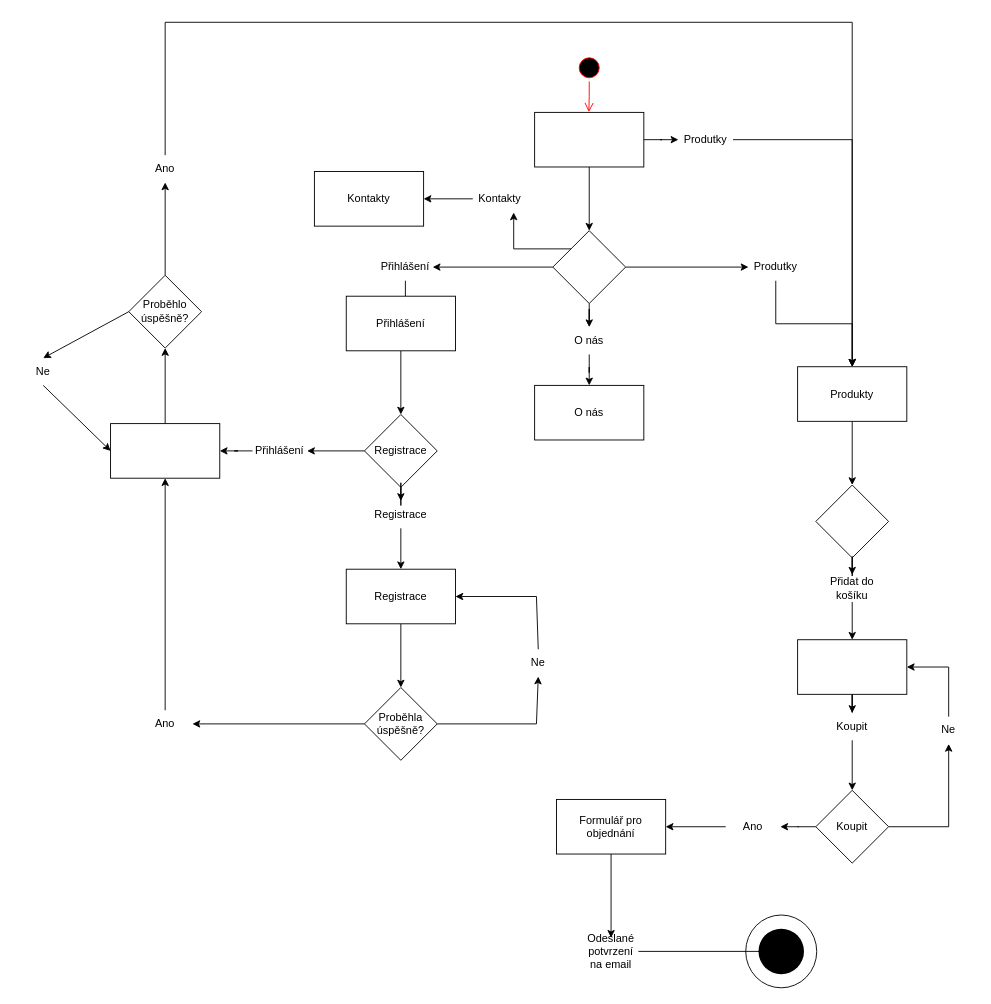
This 991x1004 diagram has some shape labels left out. The centre of each missing label's shape, as x and y in pixels:
Košík: the point at 852,666
Menu: the point at 589,266
Přidát/Odebrat do košíku: the point at 852,521
Přihlásit se: the point at 165,450
Úvodní stránka: the point at 589,139
